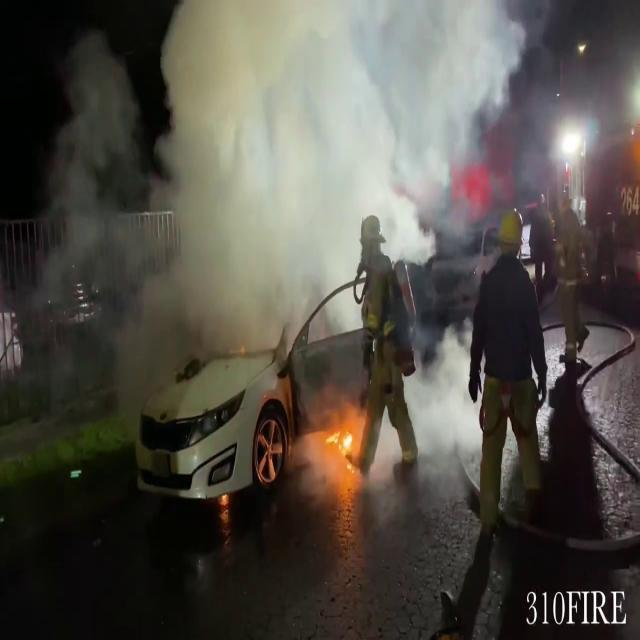Fire: (323, 414, 361, 478)
Smoke: (170, 0, 520, 338), (18, 26, 164, 414)
